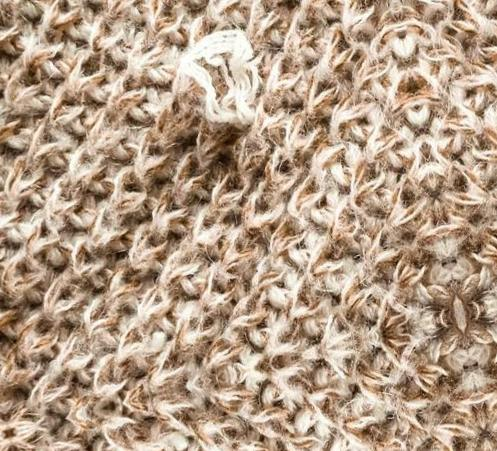snag: (168, 24, 295, 144)
